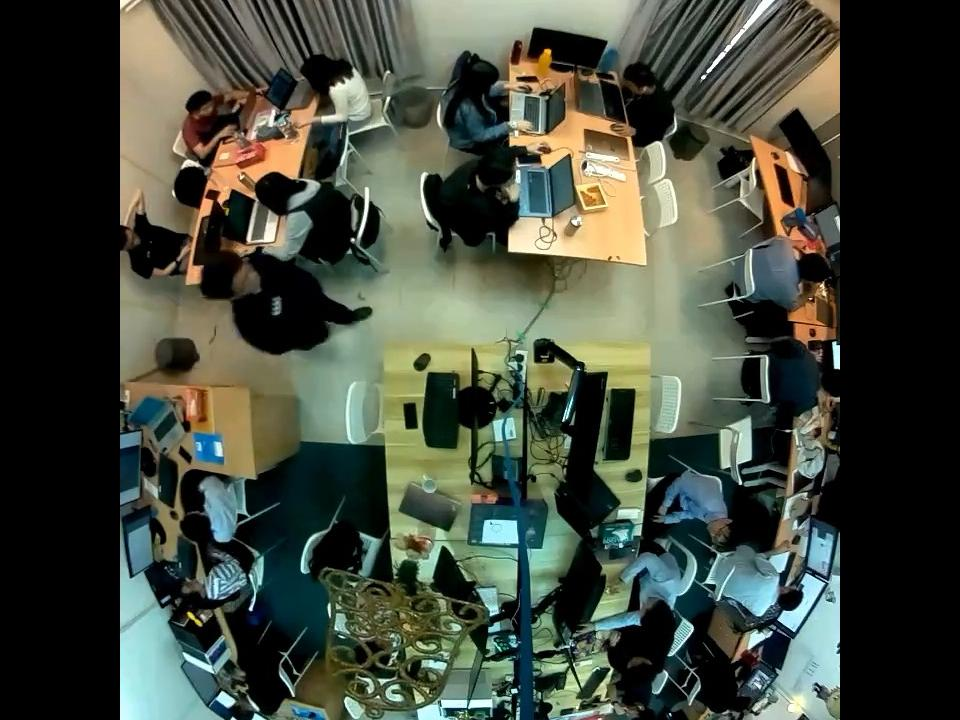name-tag: (270, 296, 283, 316)
